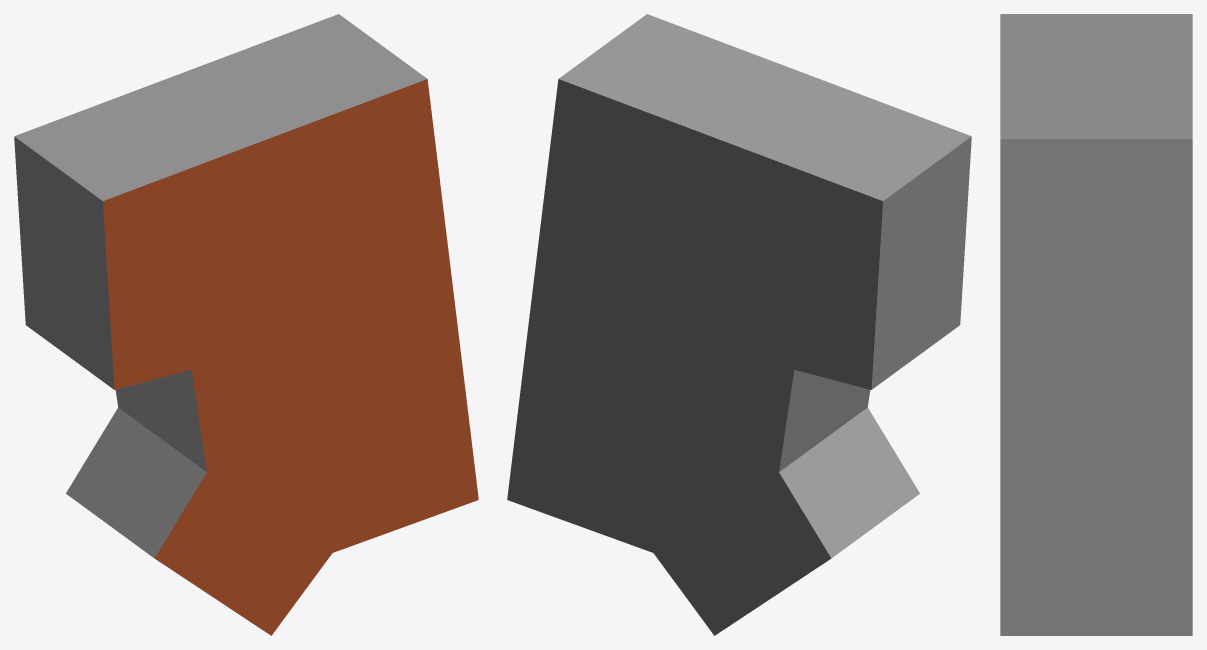
Rendered from construction_2424_assumed_A_Casa_h6m.obj.
The picture shows the model from 3 angles, left to right: view 1: azimuth 30°, elevation 25°; view 2: azimuth 150°, elevation 25°; view 3: azimuth 270°, elevation 25°; orthographic projection. The views are drawn at different scales.
Parts seen in each view (by area): view 1: construction_2424_assumed_A_Casa; view 2: construction_2424_assumed_A_Casa; view 3: construction_2424_assumed_A_Casa.
Boxes of the visible parts, bbox=[...] form: construction_2424_assumed_A_Casa: bbox=[14, 14, 478, 635]; construction_2424_assumed_A_Casa: bbox=[507, 14, 971, 635]; construction_2424_assumed_A_Casa: bbox=[1000, 14, 1192, 635].
Bounding box in the file's own units: 14.68 × 19.36 × 6.
